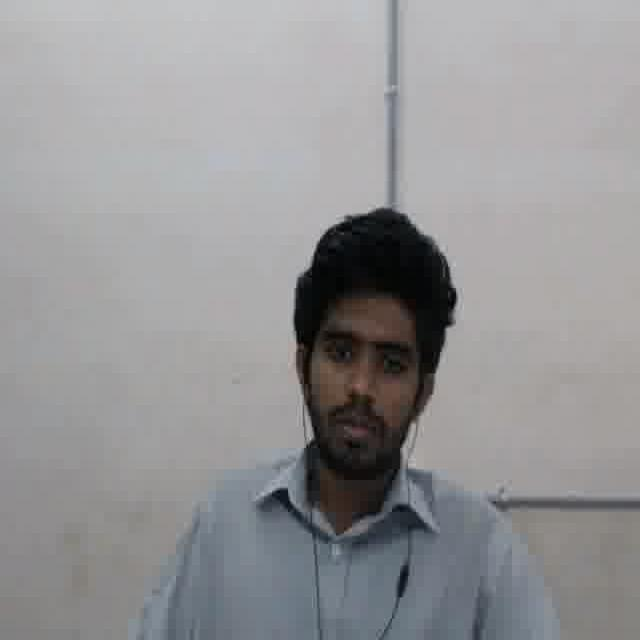Boredom: (311, 293, 417, 467)
